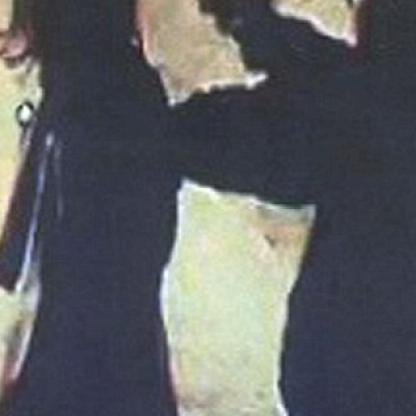gun: (188, 0, 286, 74)
